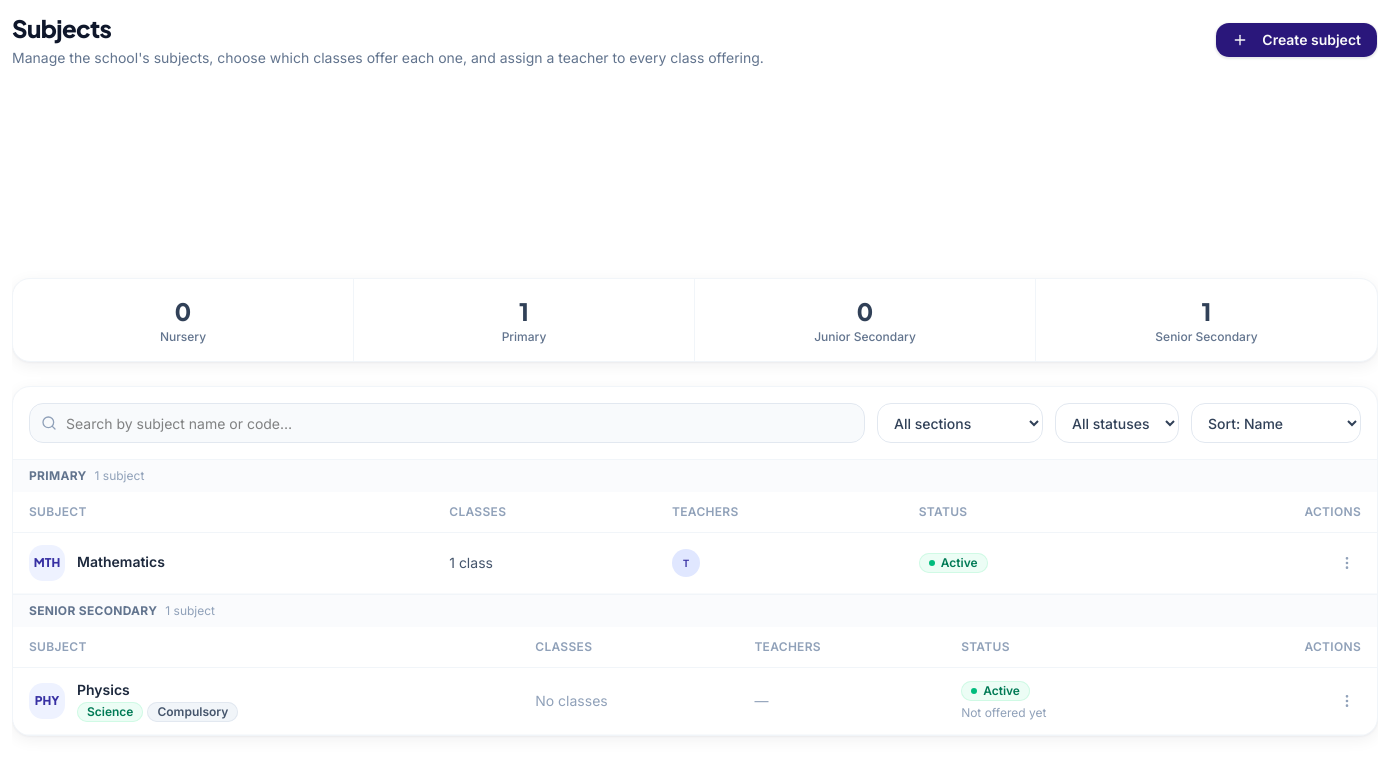
Scenario: SubjectsView › filtering and search › filters subjects by search term
In the field with placeholder "Search by subject name or code…": x=447, y=423 [29,403,865,443], type "Phys"
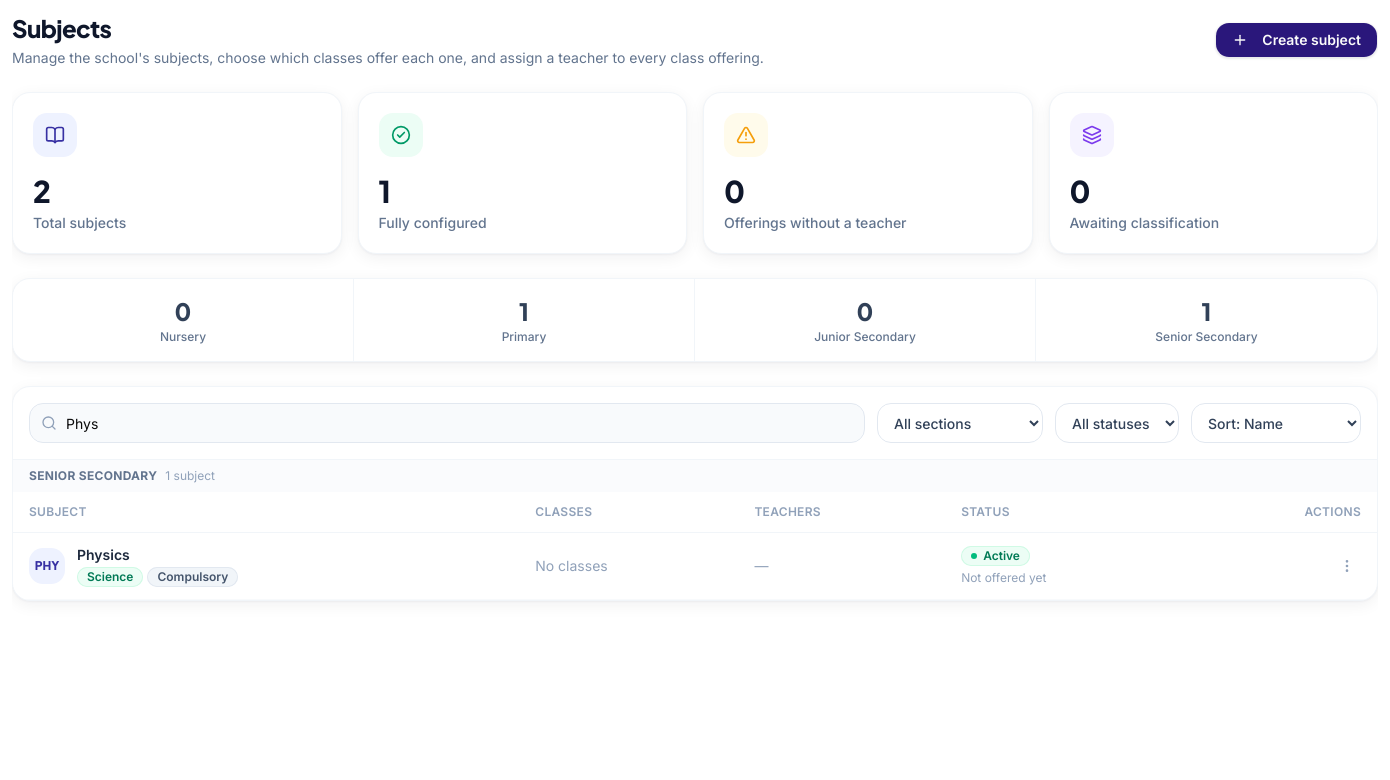
Expected: the text "Physics" is shown, [77,546,130,563]
Expected: the button "Mathematics" is gone
